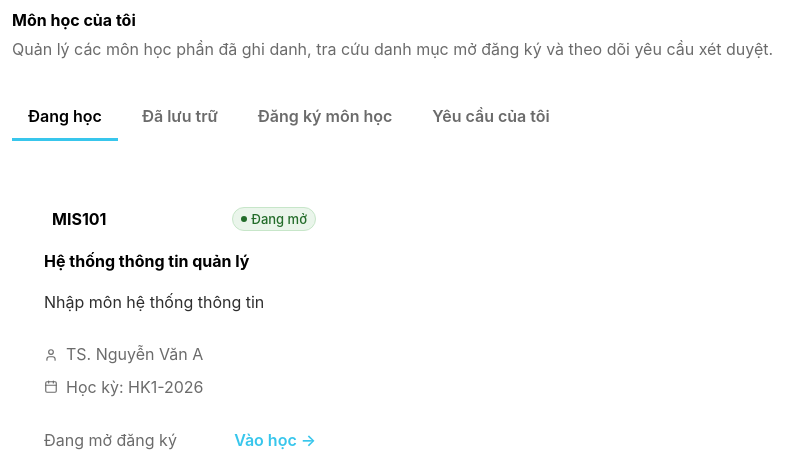
Test: B07-05: Student Courses & Enrollment Requests UI › StudentCoursesPage › renders open courses by default and switches to archived tab
Expected: the heading "Hệ thống thông tin quản lý" is shown, [44,251,250,271]
Expected: the text "MIS101" is shown, [52,209,106,229]
# Click tab "Đã lưu trữ"
Click the tab "Đã lưu trữ": coordinates (180, 117) [126,94,234,141]
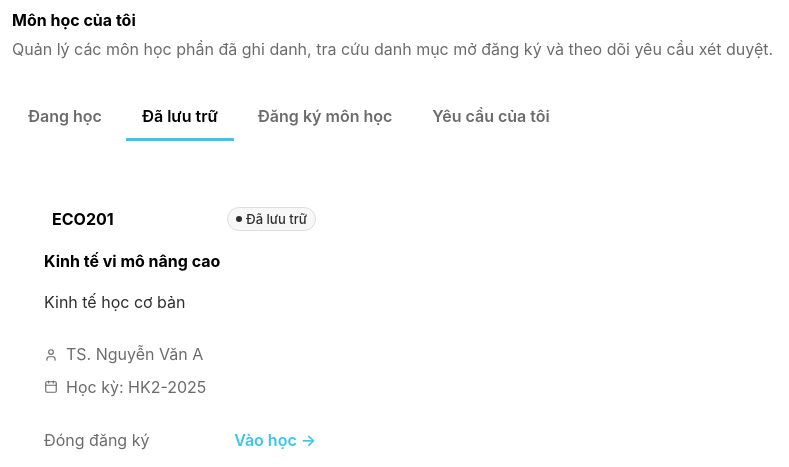
Expected: the heading "Kinh tế vi mô nâng cao" is shown, [44,251,220,271]
Expected: the text "ECO201" is shown, [52,209,114,229]
